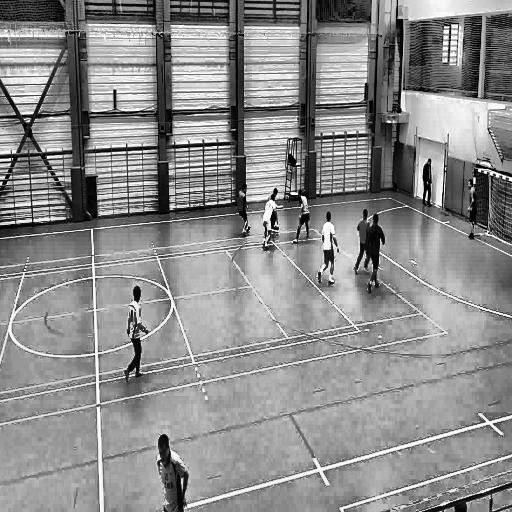ball: (274, 222, 280, 232)
player: (154, 431, 189, 512), (122, 284, 148, 386), (317, 210, 340, 287), (364, 214, 386, 294), (293, 187, 311, 247), (262, 194, 279, 255), (354, 206, 369, 275), (234, 182, 252, 239), (464, 178, 477, 242), (422, 154, 434, 209), (268, 181, 281, 231)
